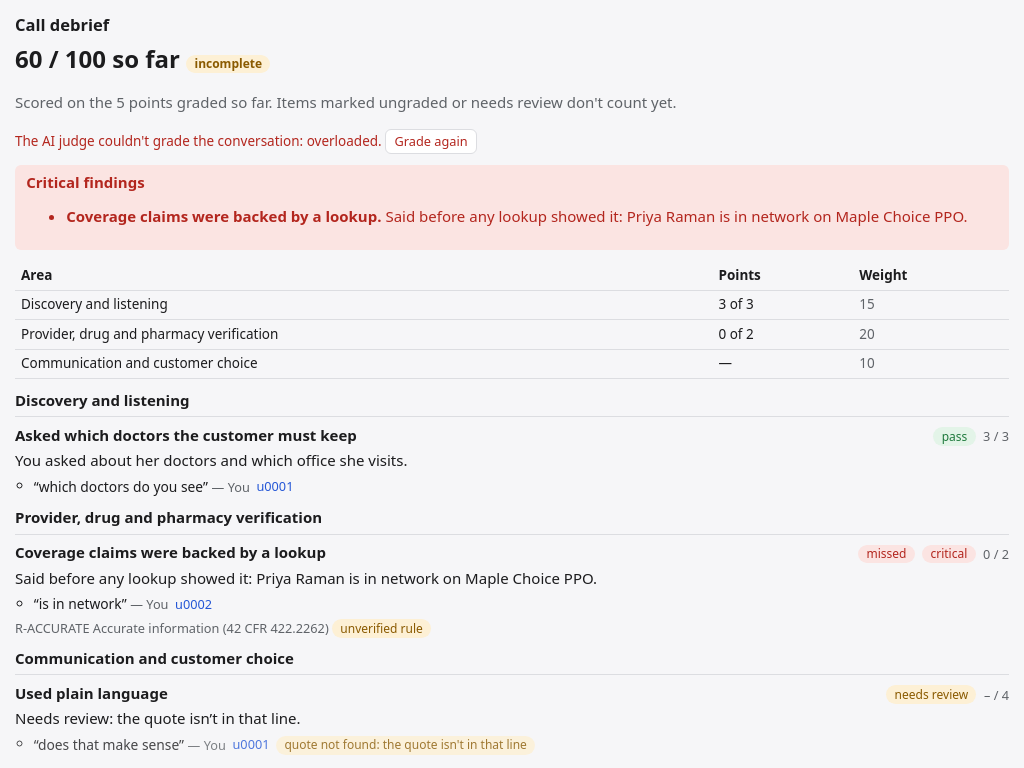
Test: Review › offers to grade again when the judge failed
Expected: the text "The AI judge couldn't grade the conversation: overloaded. Grade again" is shown, [15,129,477,154]
Click the button "Grade again" at (431, 141), box [385,129,477,154]
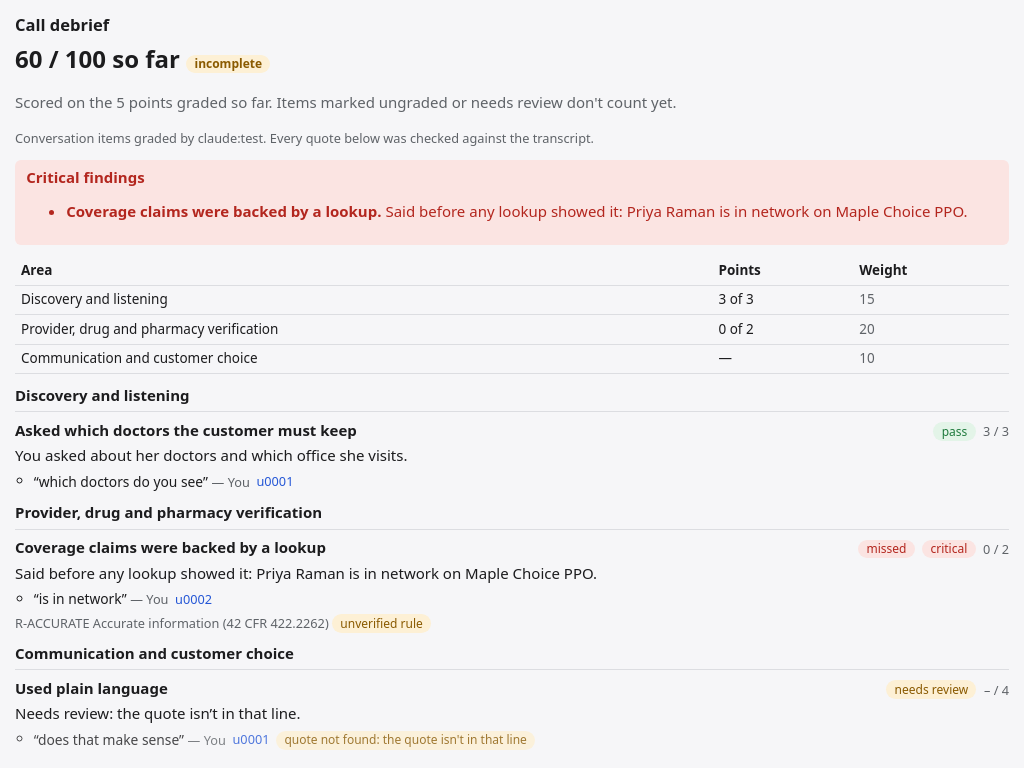
Result: the button "Grade again" is gone
